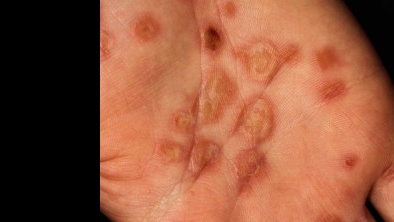SJS-TEN: (55, 0, 361, 221)
